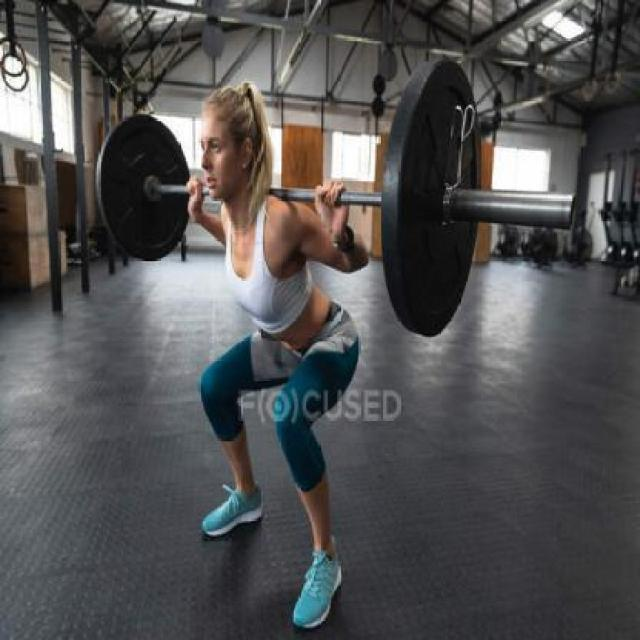barbell: (377, 52, 585, 345)
